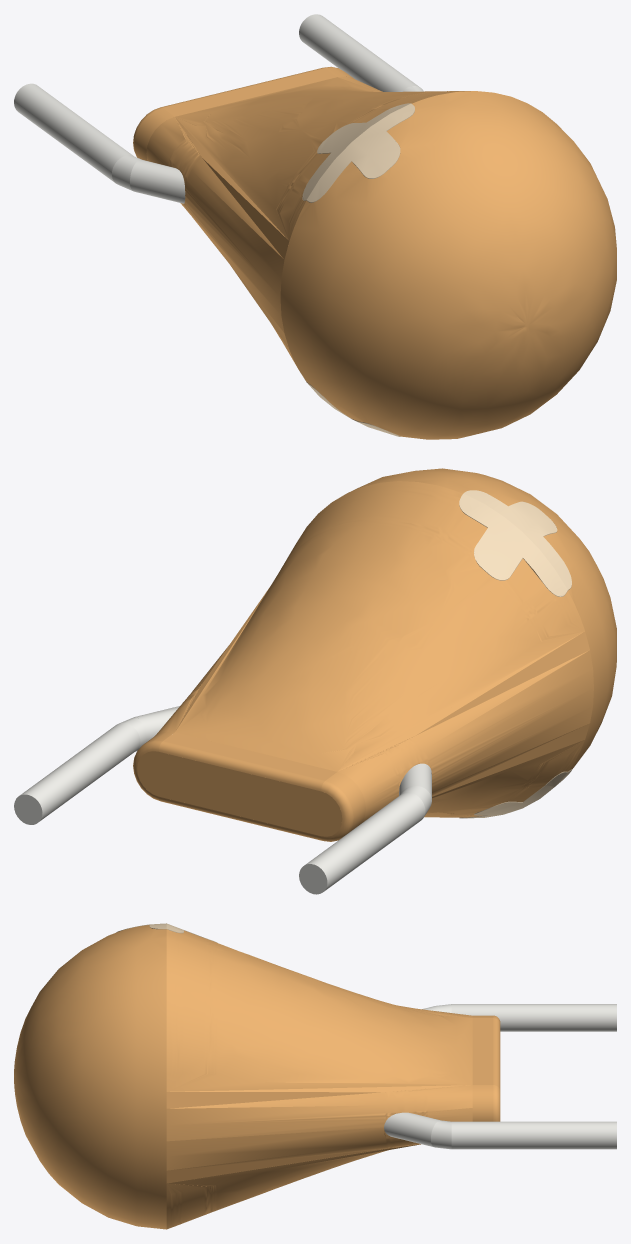
The model's file is CP_Radial_Tantal_D5.5mm_P5.00mm.glb.
3 renders of one model, top to bottom at view 1: azimuth 30°, elevation 25°; view 2: azimuth 150°, elevation 25°; view 3: azimuth 270°, elevation 25°, orthographic. The views are drawn at different scales.
Parts seen in each view (by area): view 1: Shape_IndexedFaceSet.022, Shape_IndexedFaceSet.023, Shape_IndexedFaceSet.038, Shape_IndexedFaceSet.064, Shape_IndexedFaceSet.063, Shape_IndexedFaceSet.001, Shape_IndexedFaceSet.039, Shape_IndexedFaceSet.055, Shape_IndexedFaceSet, Shape_IndexedFaceSet.054, Shape_IndexedFaceSet.061; view 2: Shape_IndexedFaceSet.023, Shape_IndexedFaceSet.038, Shape_IndexedFaceSet.062, Shape_IndexedFaceSet.022, Shape_IndexedFaceSet.026, Shape_IndexedFaceSet.064, Shape_IndexedFaceSet.063, Shape_IndexedFaceSet, Shape_IndexedFaceSet.001, Shape_IndexedFaceSet.039, Shape_IndexedFaceSet.056, Shape_IndexedFaceSet.024 (+8 smaller); view 3: Shape_IndexedFaceSet.022, Shape_IndexedFaceSet.023, Shape_IndexedFaceSet.024, Shape_IndexedFaceSet.025, Shape_IndexedFaceSet.026, Shape_IndexedFaceSet.063, Shape_IndexedFaceSet.064, Shape_IndexedFaceSet.039, Shape_IndexedFaceSet.040, Shape_IndexedFaceSet.041, Shape_IndexedFaceSet.057, Shape_IndexedFaceSet.056.
Part boxes in pixels (x1,y1,x2,y2): Shape_IndexedFaceSet.022: (280,91,616,439); Shape_IndexedFaceSet.023: (175,77,470,240); Shape_IndexedFaceSet.038: (146,117,289,348); Shape_IndexedFaceSet.064: (14,83,133,183); Shape_IndexedFaceSet.063: (299,14,419,91); Shape_IndexedFaceSet.001: (307,103,414,202); Shape_IndexedFaceSet.039: (163,68,336,116); Shape_IndexedFaceSet.055: (130,159,185,203); Shape_IndexedFaceSet: (302,103,410,200); Shape_IndexedFaceSet.054: (134,108,174,160); Shape_IndexedFaceSet.061: (112,155,141,190); Shape_IndexedFaceSet.023: (175,481,584,771); Shape_IndexedFaceSet.038: (338,631,593,823); Shape_IndexedFaceSet.062: (137,751,342,836); Shape_IndexedFaceSet.022: (348,468,616,771); Shape_IndexedFaceSet.026: (424,740,584,817); Shape_IndexedFaceSet.064: (305,792,425,891); Shape_IndexedFaceSet.063: (19,723,140,821); Shape_IndexedFaceSet: (459,493,567,596); Shape_IndexedFaceSet.001: (463,490,571,589); Shape_IndexedFaceSet.039: (163,732,336,780); Shape_IndexedFaceSet.056: (158,741,324,791); Shape_IndexedFaceSet.024: (155,587,269,735); Shape_IndexedFaceSet.022: (14,925,166,1229); Shape_IndexedFaceSet.023: (166,929,472,1091); Shape_IndexedFaceSet.024: (166,1085,472,1141); Shape_IndexedFaceSet.025: (166,1127,420,1183); Shape_IndexedFaceSet.026: (166,1144,420,1229); Shape_IndexedFaceSet.063: (451,1121,616,1149); Shape_IndexedFaceSet.064: (451,1004,616,1031); Shape_IndexedFaceSet.039: (472,1018,493,1084); Shape_IndexedFaceSet.040: (384,1112,439,1146); Shape_IndexedFaceSet.041: (472,1085,493,1121); Shape_IndexedFaceSet.057: (431,1120,451,1149); Shape_IndexedFaceSet.056: (493,1018,500,1089).
Bounding box in the file's own units: 2.16 × 2.16 × 4.27.
